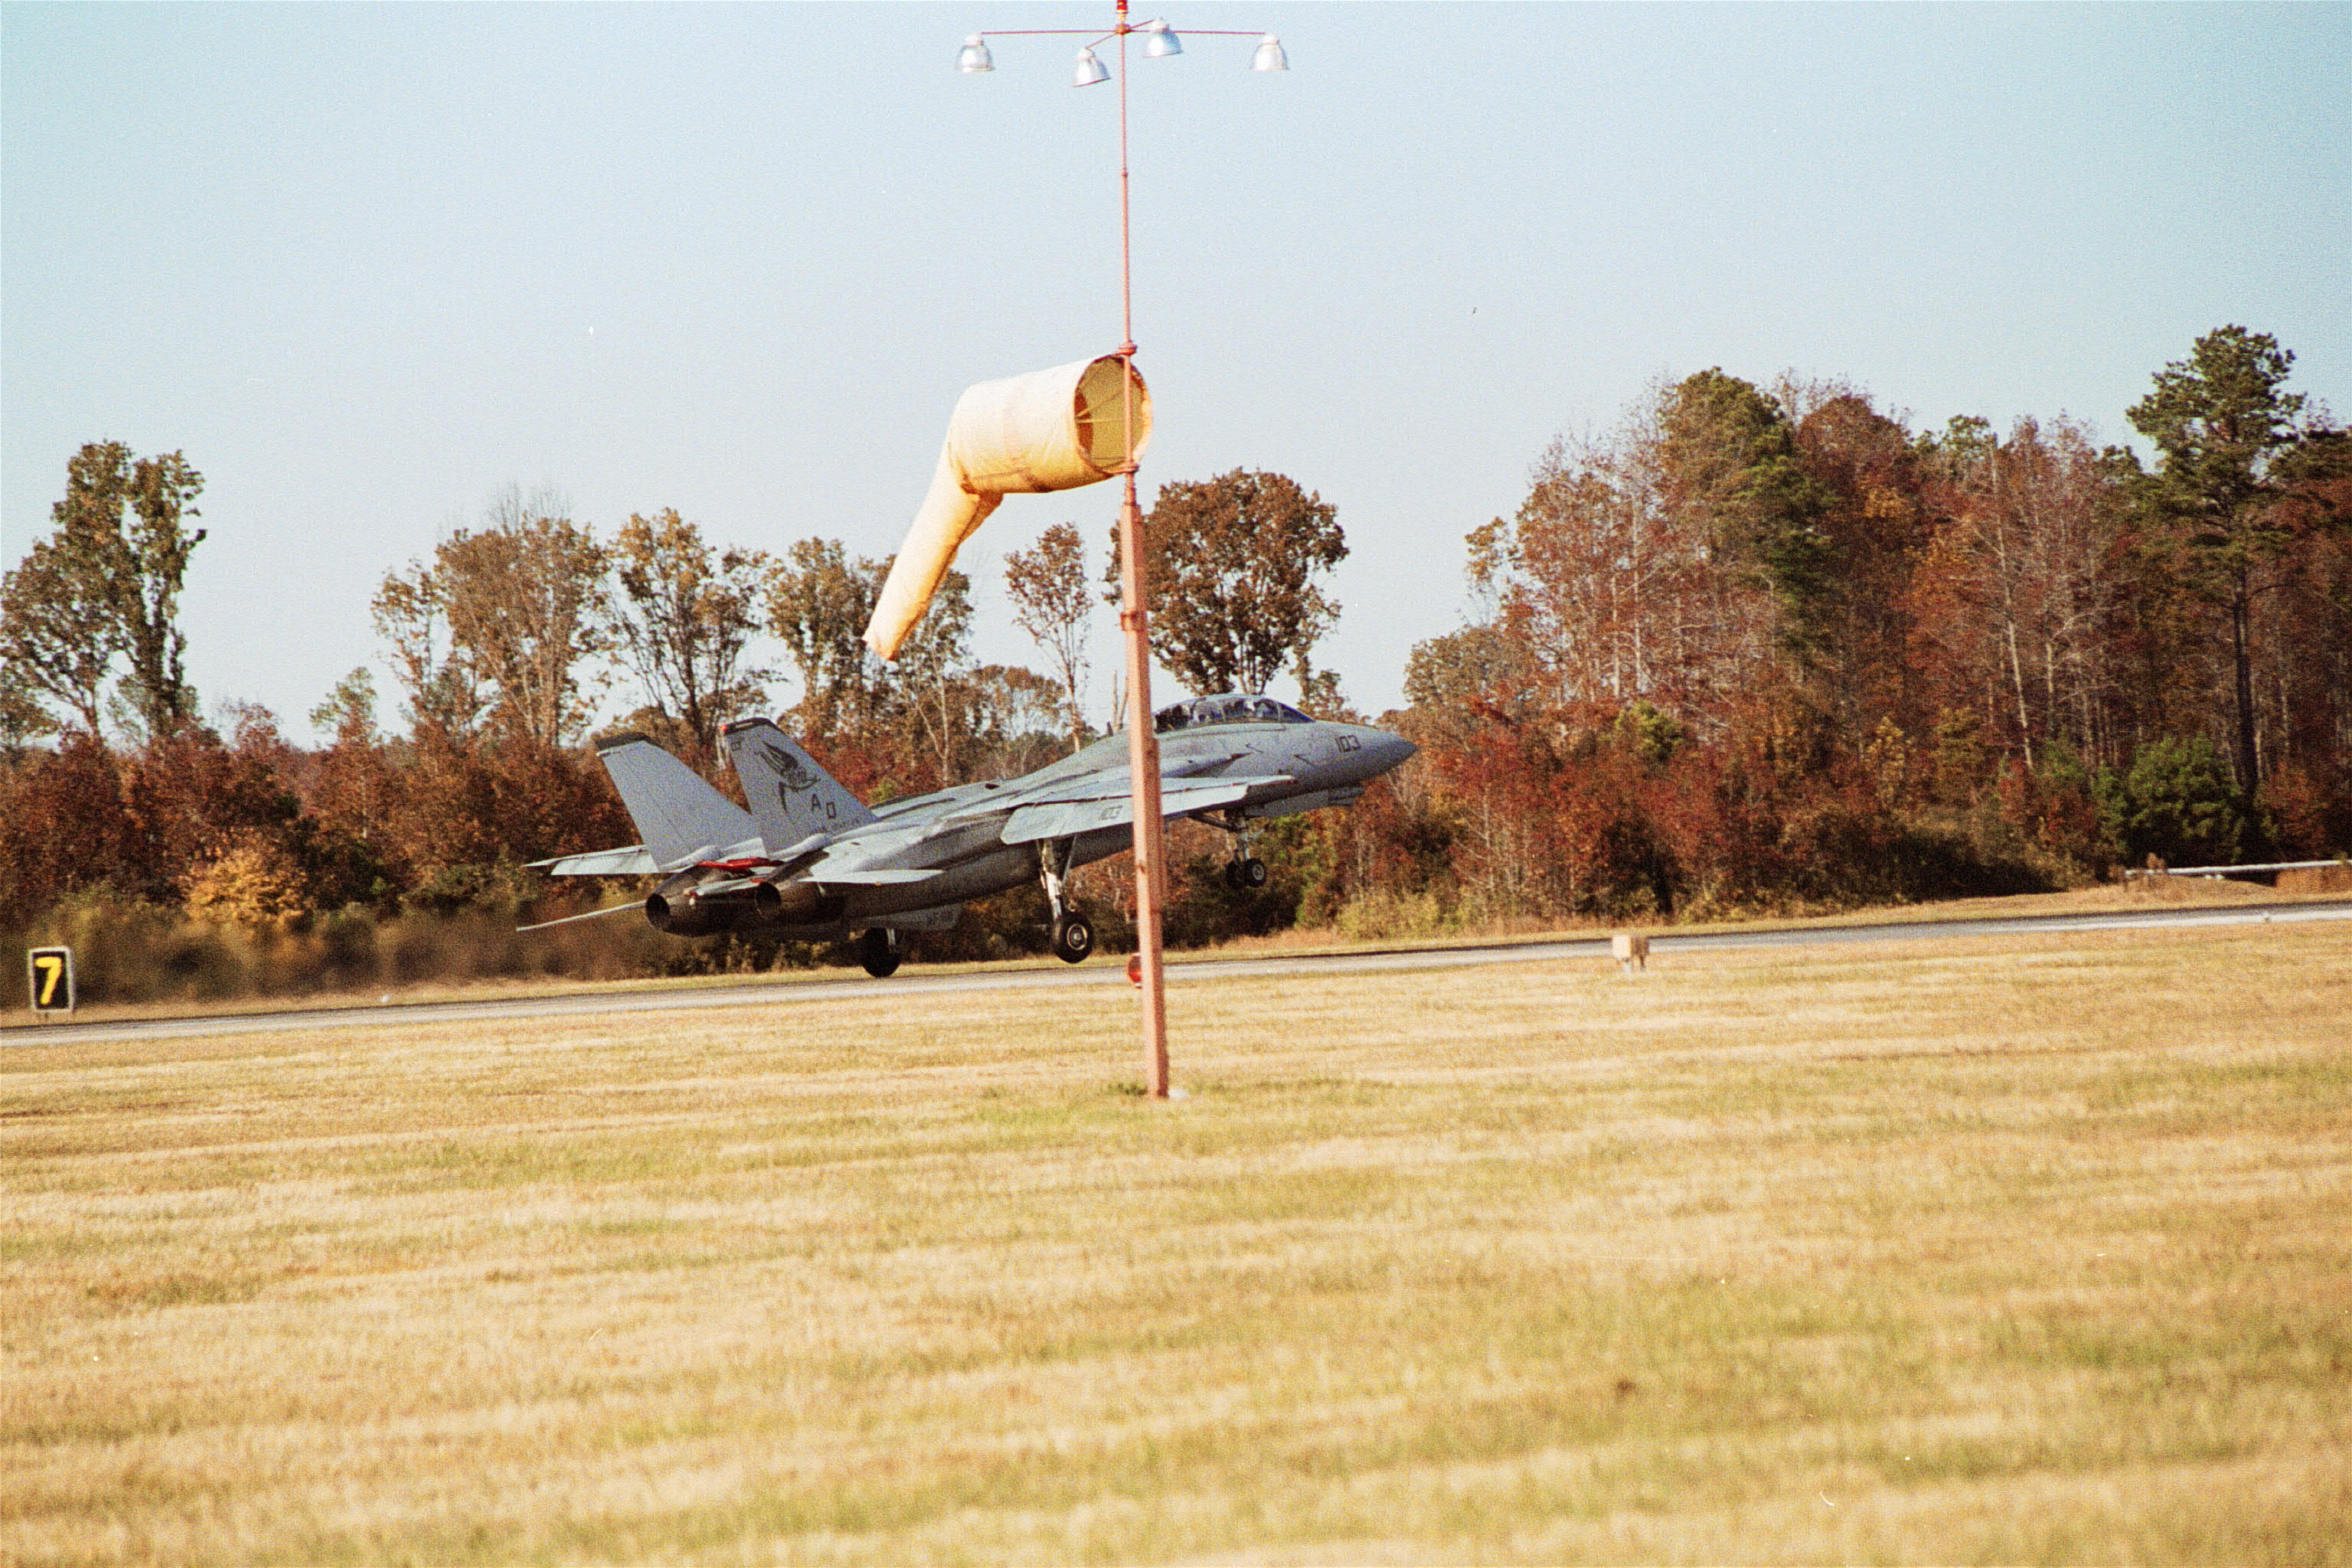F14: (514, 693, 1421, 978)
